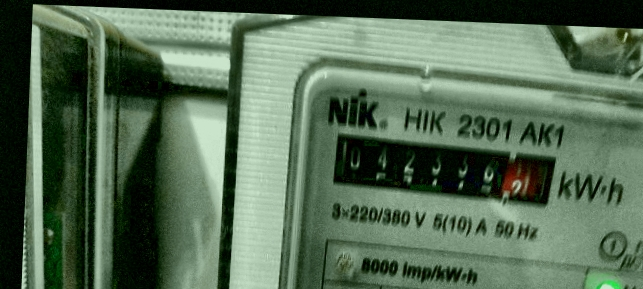0: (347, 142, 361, 172)
2: (399, 146, 418, 174)
3: (426, 148, 443, 177), (455, 150, 470, 178)
4: (373, 144, 390, 172)
6: (480, 157, 496, 184)
screen: (321, 124, 564, 215)
